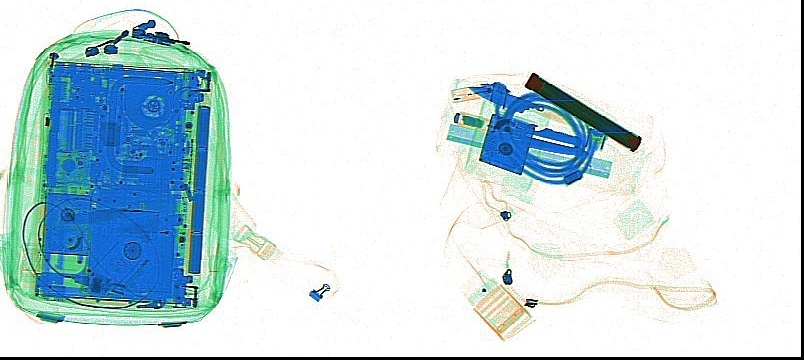knife: (453, 109, 590, 157), (466, 79, 578, 125)
lighter: (450, 81, 501, 102)
